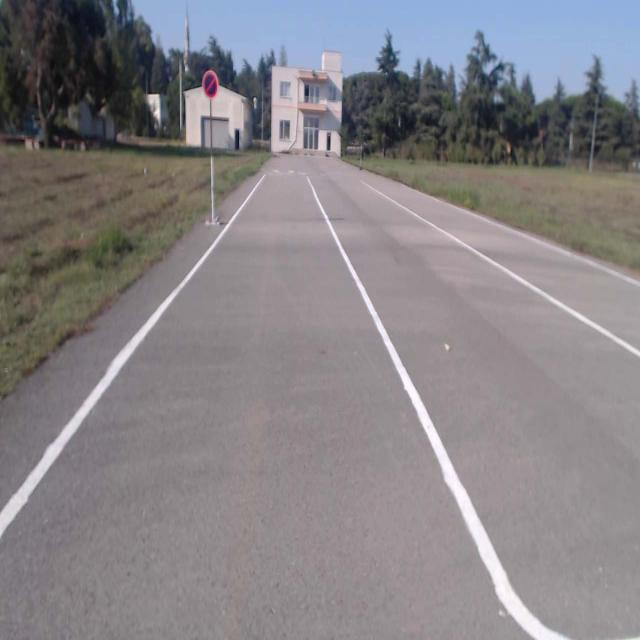parkyasak: (203, 68, 218, 100)
